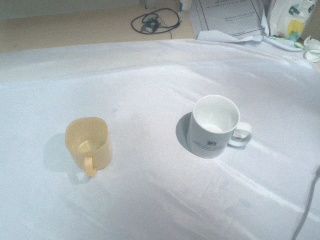cup: (175, 94, 253, 159), (65, 116, 115, 177)
